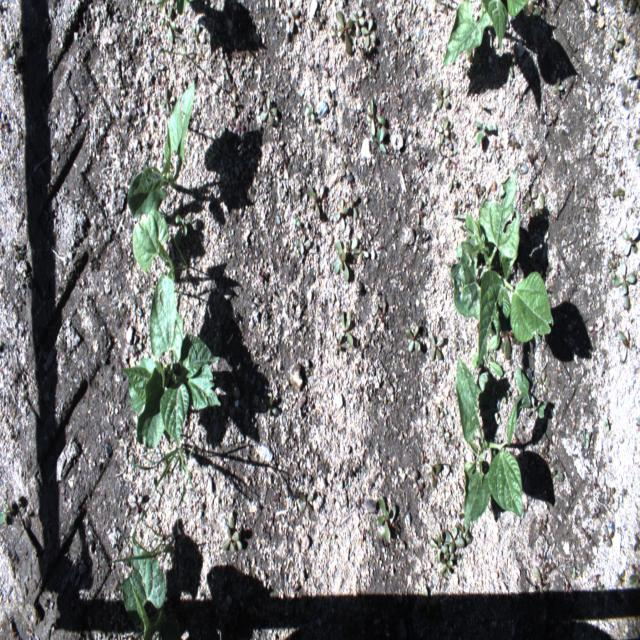crop: (448, 168, 555, 395), (125, 266, 226, 449), (128, 72, 195, 279), (453, 348, 523, 533), (112, 524, 184, 636), (441, 1, 536, 68)
weed: (132, 432, 195, 520), (149, 0, 195, 63), (510, 362, 545, 442), (602, 244, 636, 316), (412, 438, 452, 488), (252, 89, 285, 149), (216, 513, 253, 561), (332, 178, 362, 234), (529, 544, 559, 597), (540, 437, 570, 489), (290, 212, 317, 264), (331, 5, 356, 60), (0, 490, 29, 537), (435, 154, 467, 196), (430, 395, 456, 445), (363, 94, 392, 137), (600, 26, 628, 70), (336, 300, 362, 347), (447, 191, 473, 237), (524, 181, 546, 233), (296, 479, 323, 520), (304, 174, 326, 224), (330, 236, 351, 287), (615, 323, 638, 369), (1, 33, 24, 78), (375, 496, 397, 543), (617, 218, 638, 266), (426, 326, 450, 368), (408, 466, 432, 506), (370, 284, 390, 332), (412, 190, 436, 230), (429, 82, 454, 120), (576, 186, 601, 222), (530, 366, 554, 403), (403, 321, 427, 358), (469, 116, 501, 143), (158, 78, 176, 124), (586, 564, 610, 598), (560, 557, 580, 597), (284, 2, 304, 42), (413, 137, 432, 179), (539, 95, 561, 131), (518, 142, 542, 172), (578, 514, 596, 554), (172, 206, 196, 236), (432, 116, 455, 147), (548, 66, 570, 98), (535, 504, 551, 548), (298, 92, 320, 123), (227, 86, 243, 127), (176, 241, 193, 279), (347, 236, 371, 262), (600, 520, 617, 556), (264, 393, 284, 423), (323, 122, 344, 150), (602, 479, 619, 513), (0, 109, 16, 145), (1, 608, 20, 638), (361, 17, 378, 49), (591, 472, 606, 508), (431, 0, 450, 28), (444, 529, 465, 554), (610, 177, 630, 203), (580, 423, 596, 455), (216, 49, 233, 78), (191, 15, 203, 54), (506, 127, 523, 154), (353, 6, 366, 40), (431, 535, 448, 561), (627, 55, 638, 95), (602, 403, 616, 434), (614, 562, 628, 591), (256, 261, 270, 289), (372, 127, 387, 152), (629, 559, 638, 595), (588, 499, 600, 524), (456, 523, 471, 542), (474, 179, 488, 198), (333, 332, 342, 360), (338, 162, 352, 178), (439, 559, 453, 575), (630, 524, 638, 550), (235, 44, 245, 64), (314, 13, 324, 32), (491, 142, 503, 156)
